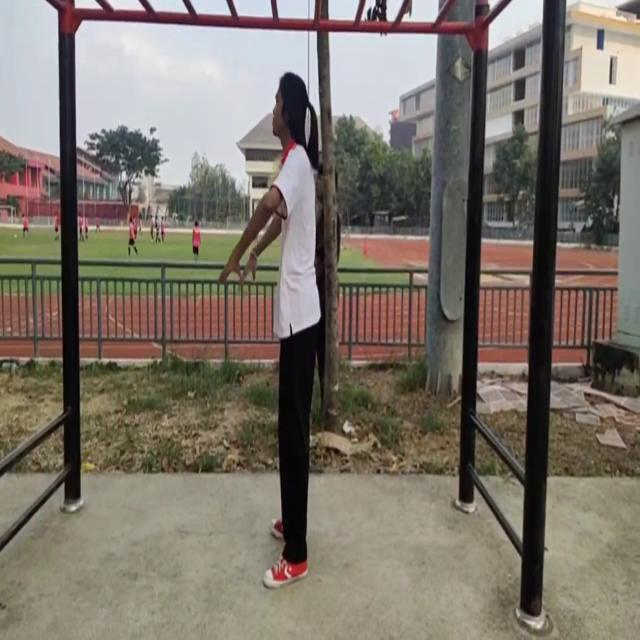stand: (234, 73, 322, 590)
